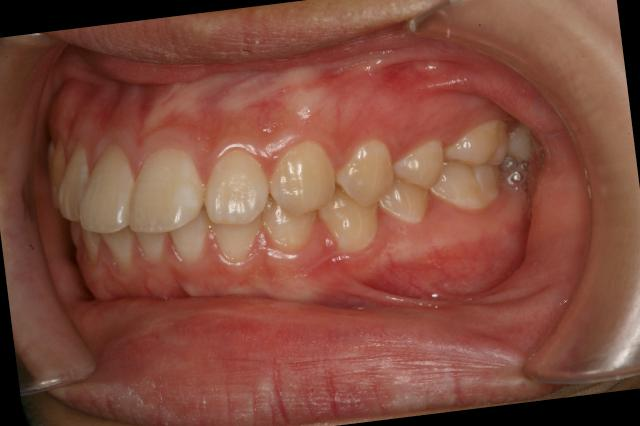canine class I: (252, 127, 384, 267)
molar class III 1/2: (422, 114, 518, 219)
